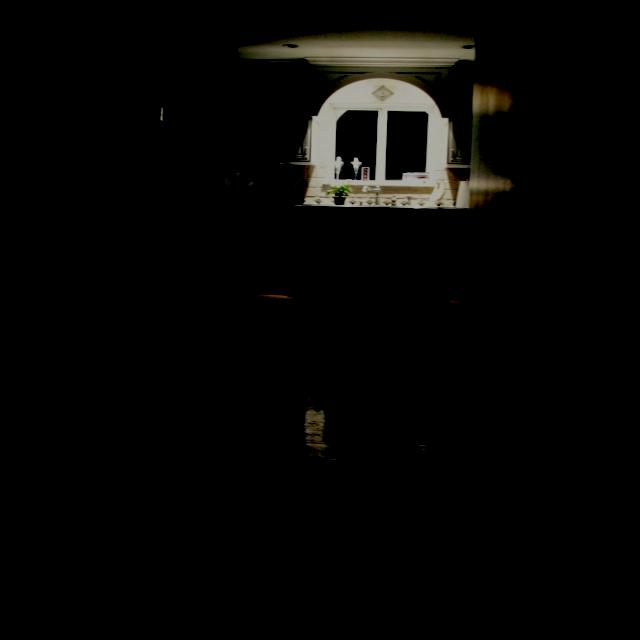Dog: (238, 309, 496, 476), (226, 246, 457, 361)
